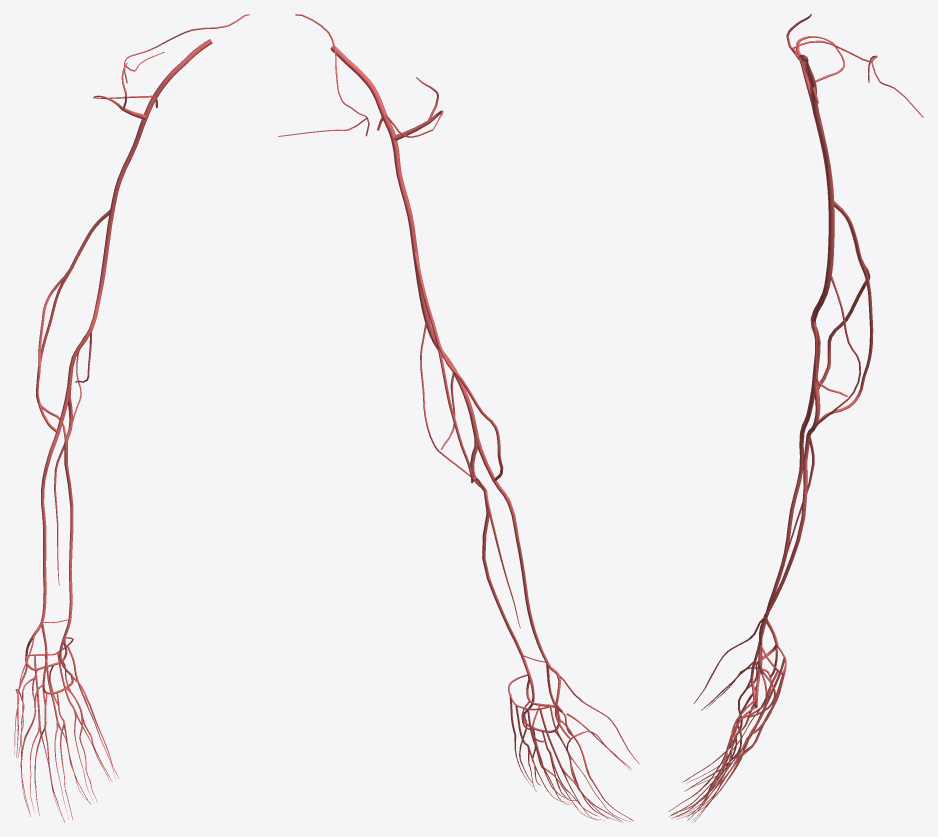
File: arteries.glb
3 views of the same model, side by side, from view 1: azimuth 30°, elevation 25°; view 2: azimuth 150°, elevation 25°; view 3: azimuth 270°, elevation 25° (orthographic). The views are drawn at different scales.
Visible parts, largest first — view 1: Proper palmar digital arteries.r.001, Brachial artery.r.001, Radial artery.r.001, Dorsal digital arteries of hand.r.001, Ulnar artery.r.001, Dorsal metacarpal arteries.r.001, Radial collateral artery.r.001, Axillary artery.r.001; view 2: Brachial artery.r.001, Proper palmar digital arteries.r.001, Radial artery.r.001, Dorsal digital arteries of hand.r.001, Ulnar artery.r.001; view 3: Brachial artery.r.001, Proper palmar digital arteries.r.001, Ulnar artery.r.001, Radial artery.r.001, Dorsal digital arteries of hand.r.001, Dorsal metacarpal arteries.r.001, Radial collateral artery.r.001.
Part boxes in pixels (box(x1,y1,x2,y2)): Proper palmar digital arteries.r.001: box(16, 635, 119, 822); Brachial artery.r.001: box(67, 97, 156, 388); Radial artery.r.001: box(25, 388, 70, 655); Dorsal digital arteries of hand.r.001: box(14, 689, 115, 820); Ulnar artery.r.001: box(63, 389, 73, 637); Dorsal metacarpal arteries.r.001: box(18, 645, 84, 724); Radial collateral artery.r.001: box(36, 269, 70, 432); Axillary artery.r.001: box(153, 39, 212, 98); Brachial artery.r.001: box(382, 116, 478, 436); Proper palmar digital arteries.r.001: box(519, 675, 639, 821); Radial artery.r.001: box(475, 436, 560, 705); Dorsal digital arteries of hand.r.001: box(514, 731, 630, 822); Ulnar artery.r.001: box(470, 437, 530, 674); Brachial artery.r.001: box(810, 85, 834, 375); Proper palmar digital arteries.r.001: box(668, 618, 763, 820); Ulnar artery.r.001: box(759, 375, 820, 645); Radial artery.r.001: box(763, 375, 814, 645); Dorsal digital arteries of hand.r.001: box(673, 667, 771, 822); Dorsal metacarpal arteries.r.001: box(747, 647, 786, 741); Radial collateral artery.r.001: box(814, 258, 870, 397).
Size of the model in its own units: 0.2908 by 0.7258 by 0.186.
